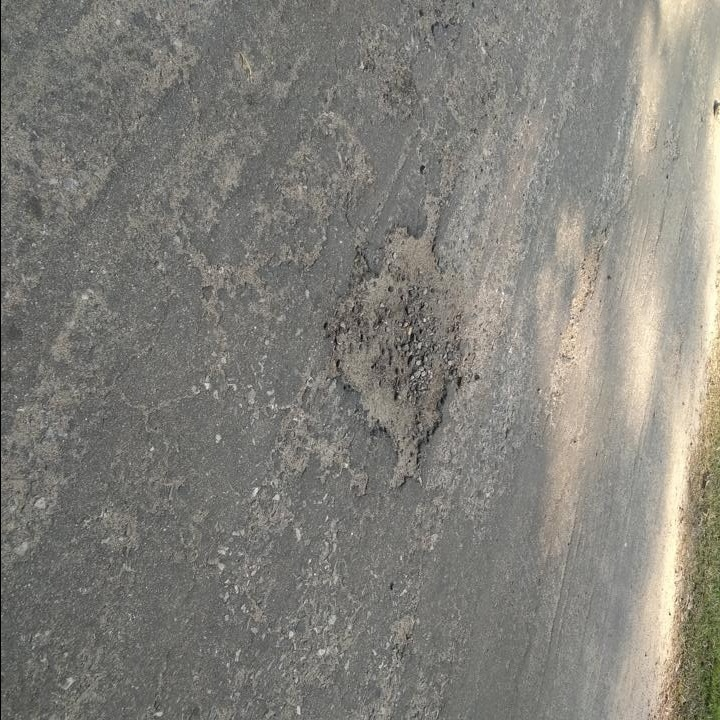pothole: (329, 190, 468, 493)
